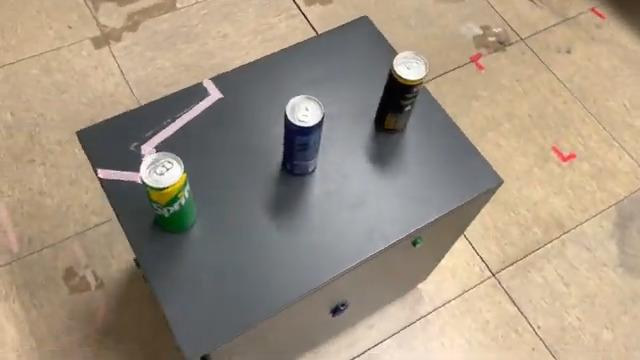OranSoda: (370, 48, 432, 140)
Pepsi: (278, 92, 328, 180)
Sprite: (137, 150, 200, 236)
